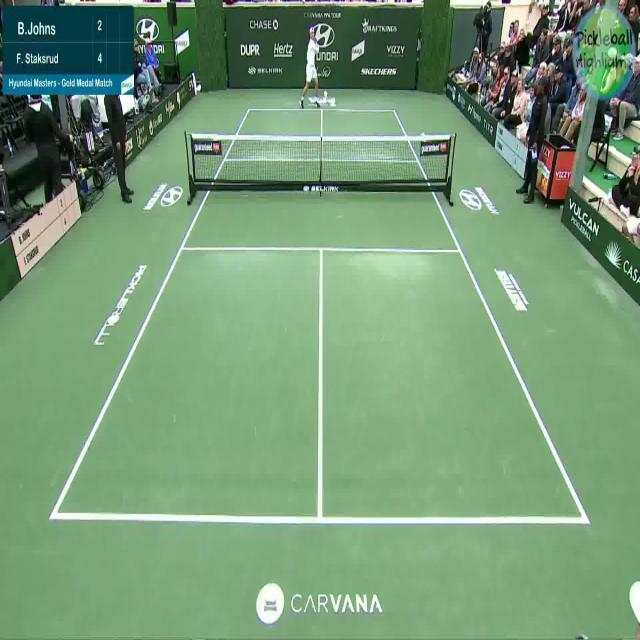ball: (319, 84, 332, 104)
